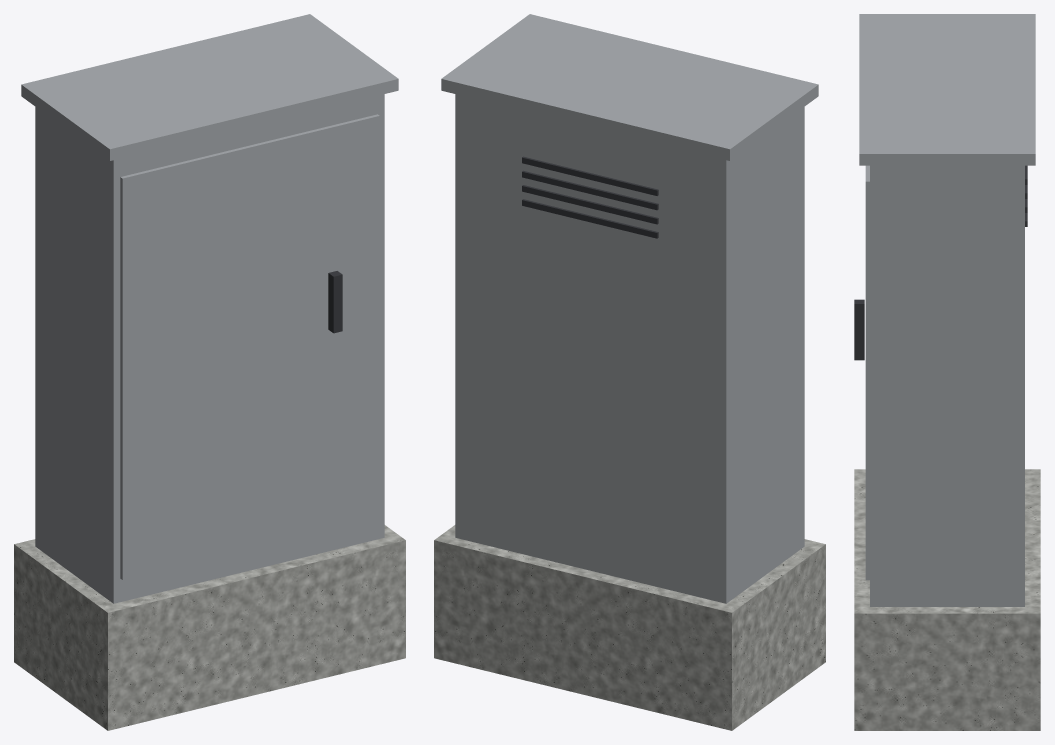
3 renders of one model, left to right at view 1: azimuth 30°, elevation 25°; view 2: azimuth 150°, elevation 25°; view 3: azimuth 270°, elevation 25°, orthographic.
Parts seen in each view (by area): view 1: baseOffset=0;depth=0.3;height=1.2;material=steel_galv;power= (×3); view 2: baseOffset=0;depth=0.3;height=1.2;material=steel_galv;power= (×3); view 3: baseOffset=0;depth=0.3;height=1.2;material=steel_galv;power= (×3).
Part boxes in pixels (bbox=[...]): baseOffset=0;depth=0.3;height=1.2;material=steel_galv;power= (×3): bbox=[14, 14, 405, 730]; baseOffset=0;depth=0.3;height=1.2;material=steel_galv;power= (×3): bbox=[434, 14, 825, 730]; baseOffset=0;depth=0.3;height=1.2;material=steel_galv;power= (×3): bbox=[854, 14, 1040, 730].
Size of the model in its own units: 0.66 by 0.36 by 1.23.
Materials: 3 (1 with a texture image).
